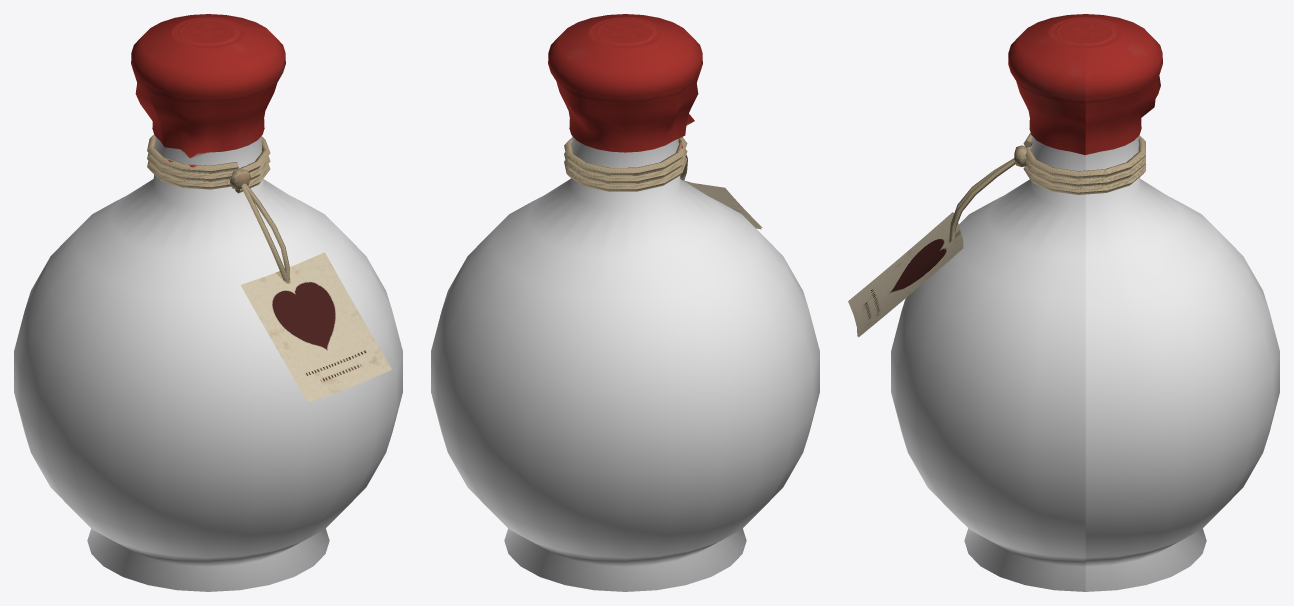
The model's file is SM_Potion_Health.fbx.
The picture shows the model from 3 angles, left to right: view 1: azimuth 30°, elevation 25°; view 2: azimuth 150°, elevation 25°; view 3: azimuth 270°, elevation 25°; orthographic projection.
Visible parts, largest first — view 1: SM_Potion_Health; view 2: SM_Potion_Health; view 3: SM_Potion_Health.
Part boxes in pixels (x1,y1,x2,y2): SM_Potion_Health: (14, 14, 402, 591); SM_Potion_Health: (431, 14, 819, 591); SM_Potion_Health: (848, 14, 1279, 591).
Bounding box in the file's own units: 8.34 × 9.27 × 12.23.
